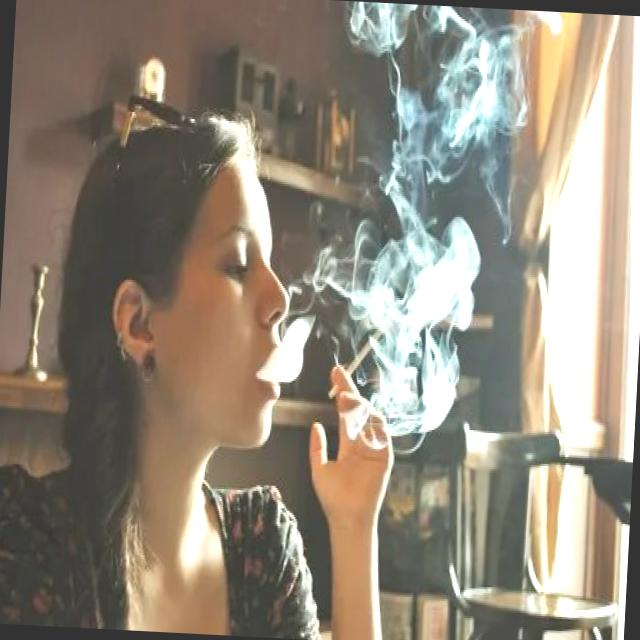cigarette: (326, 313, 390, 412)
